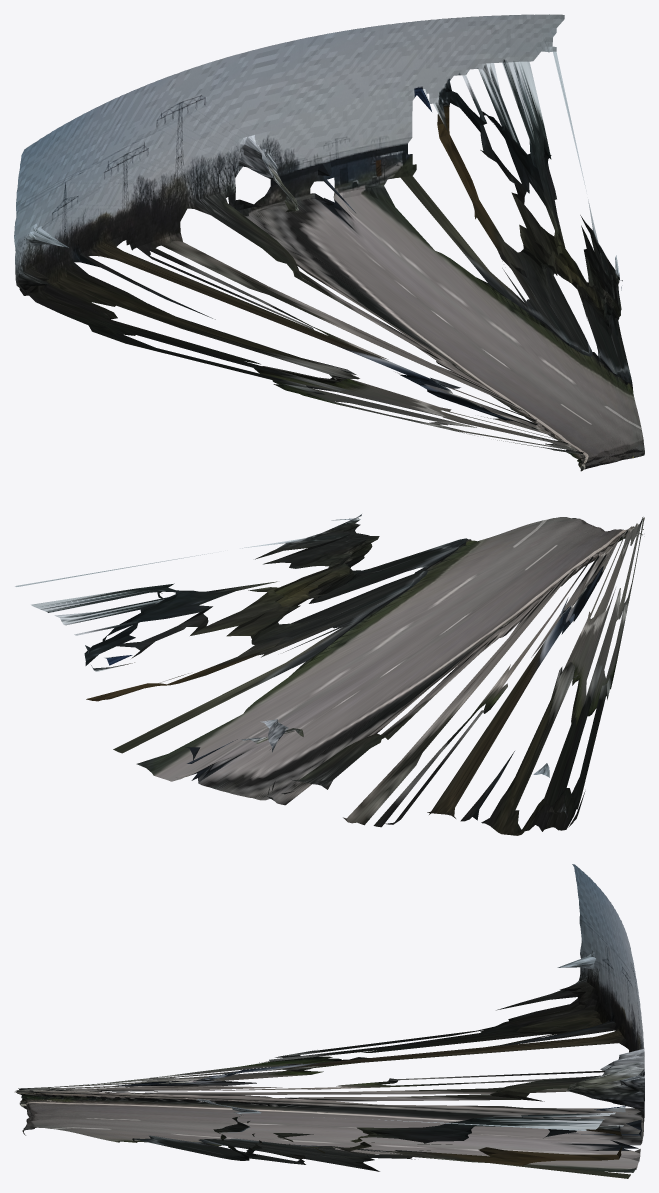
3 renders of one model, top to bottom at view 1: azimuth 30°, elevation 25°; view 2: azimuth 150°, elevation 25°; view 3: azimuth 270°, elevation 25°, orthographic. The views are drawn at different scales.
Visible parts, largest first — view 1: defaultobject; view 2: defaultobject; view 3: defaultobject.
Boxes of the visible parts, x1=… form: defaultobject: x1=14, y1=14, x2=644, y2=471; defaultobject: x1=15, y1=514, x2=644, y2=835; defaultobject: x1=14, y1=864, x2=644, y2=1178.
Size of the model in its own units: 39.98 by 12.46 by 44.92.
Materials: 1 (1 with a texture image).
